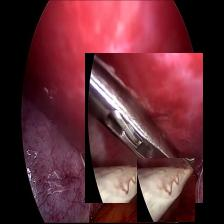Grasper: (86, 53, 203, 203)
Hook: (137, 158, 195, 222)
